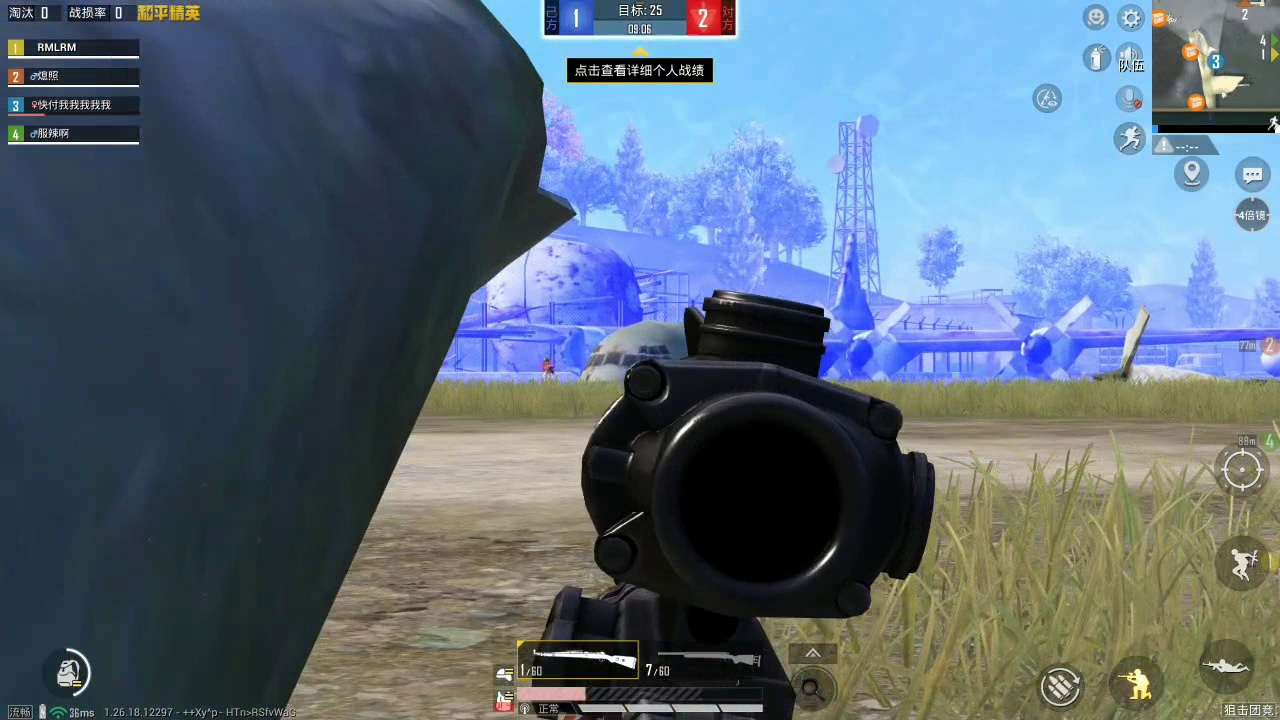enemy: (541, 356, 559, 381)
